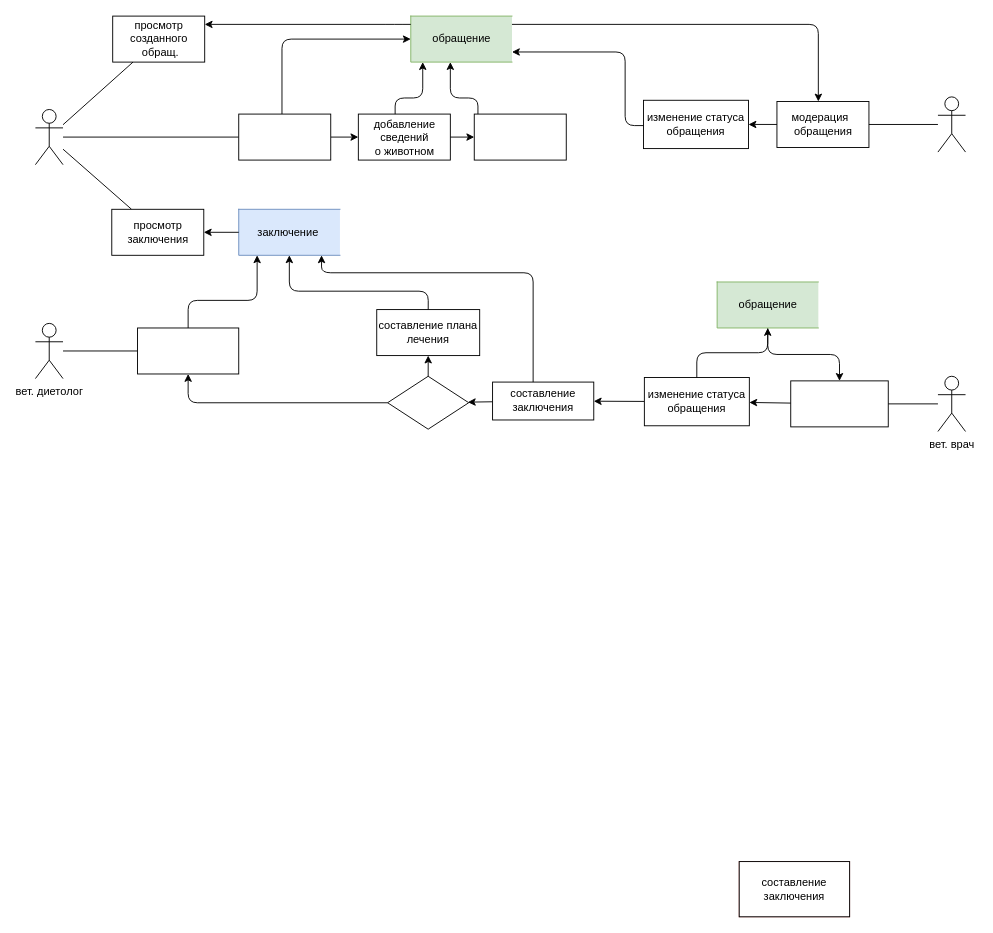
The diagram is 993 pixels wide and 933 high, and some of its shapes have lost their labels. The shapes that lost their labels are listed below. From the top down, each one's box as (x1, y1, x2, y2) in pixels, then its label:
(34, 109, 63, 165): Клиент
(238, 113, 331, 160): составление обращения
(473, 113, 566, 160): добавление описания проблемы
(937, 96, 966, 152): Оператор
(137, 327, 239, 374): составление плана питания
(790, 380, 888, 427): рассмотрение обращения
